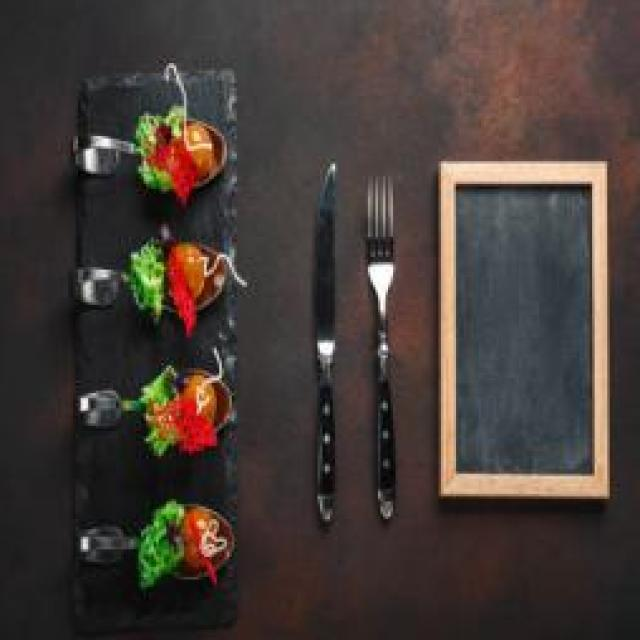knife: (306, 158, 348, 526)
